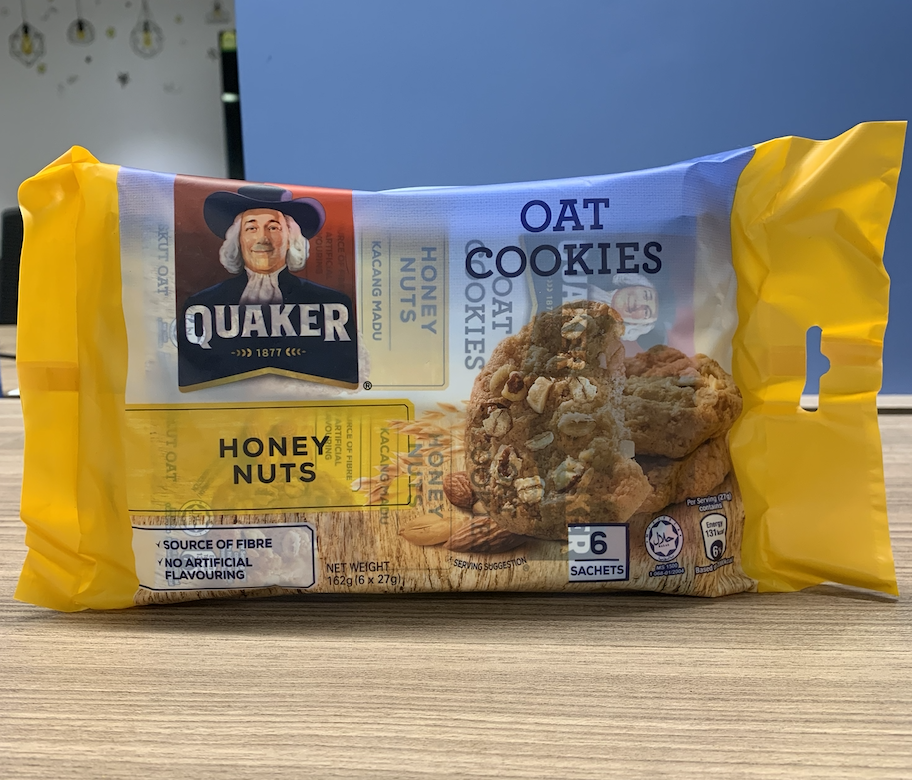cookies_150g: (62, 188, 828, 582)
